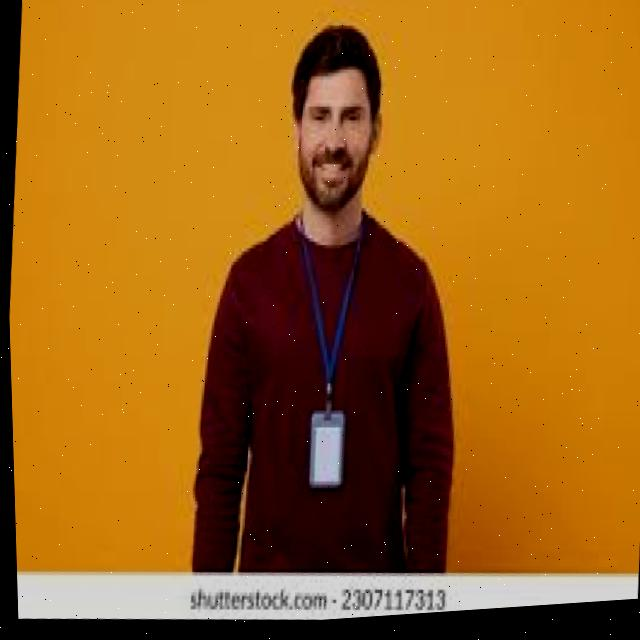id_card: (268, 212, 387, 515)
